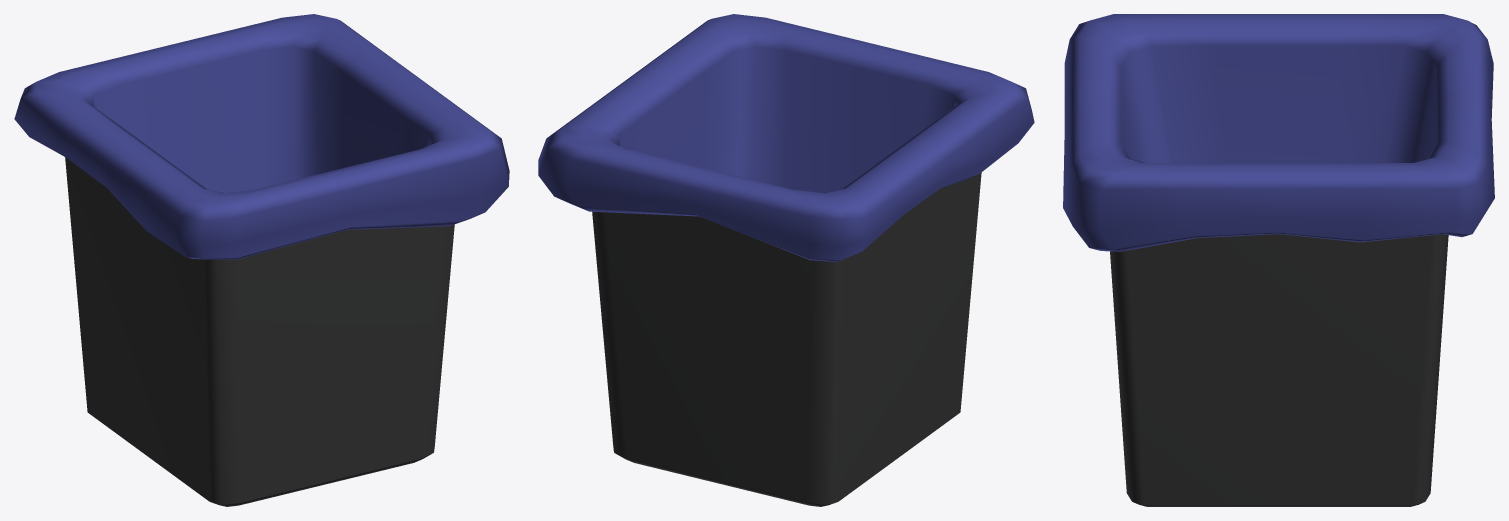
The model's file is trash2.fbx.
3 views of the same model, side by side, from view 1: azimuth 30°, elevation 25°; view 2: azimuth 150°, elevation 25°; view 3: azimuth 270°, elevation 25° (orthographic). The views are drawn at different scales.
Visible parts, largest first — view 1: trashcan1; view 2: trashcan1; view 3: trashcan1.
Part boxes in pixels (x1,y1,x2,y2): trashcan1: (14,14,509,506); trashcan1: (538,14,1034,506); trashcan1: (1063,14,1494,506).
Size of the model in its own units: 90.92 by 84.43 by 92.17.
